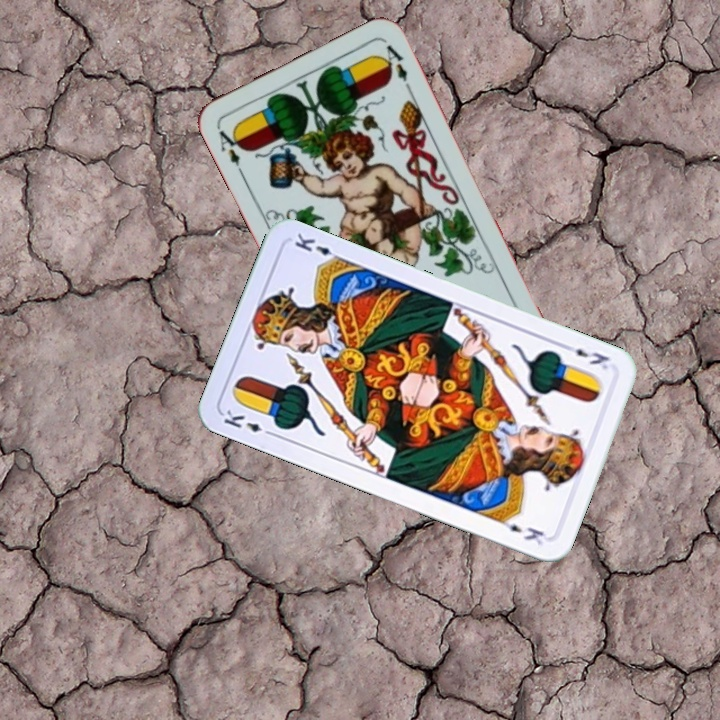EA: (213, 123, 247, 179)
EK: (219, 405, 277, 439), (559, 340, 612, 372)
